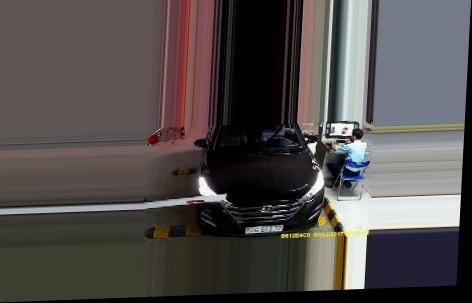License_Plate: (242, 223, 285, 236)
